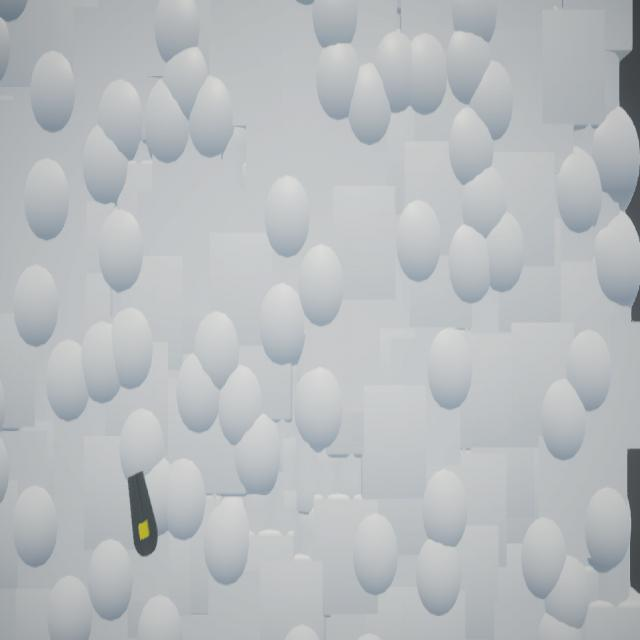handle_folk: (128, 472, 159, 558)
